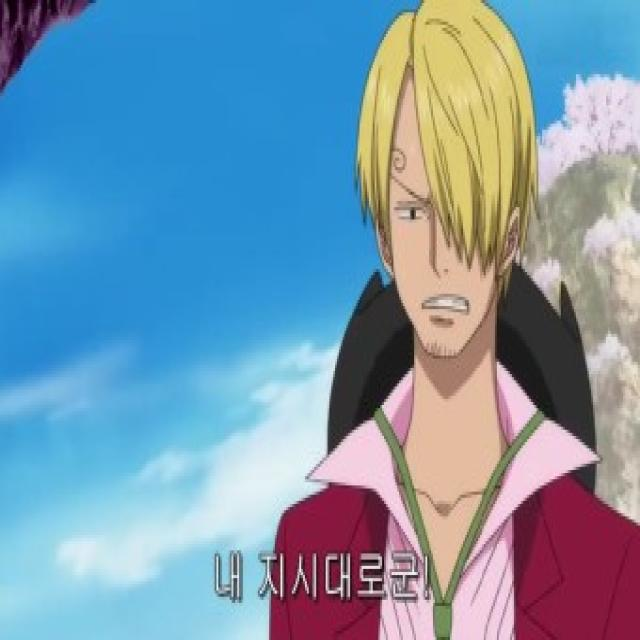Sangdi: (350, 0, 540, 359)
